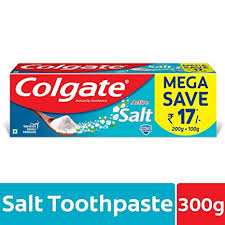colgate-family: (10, 61, 217, 137)
